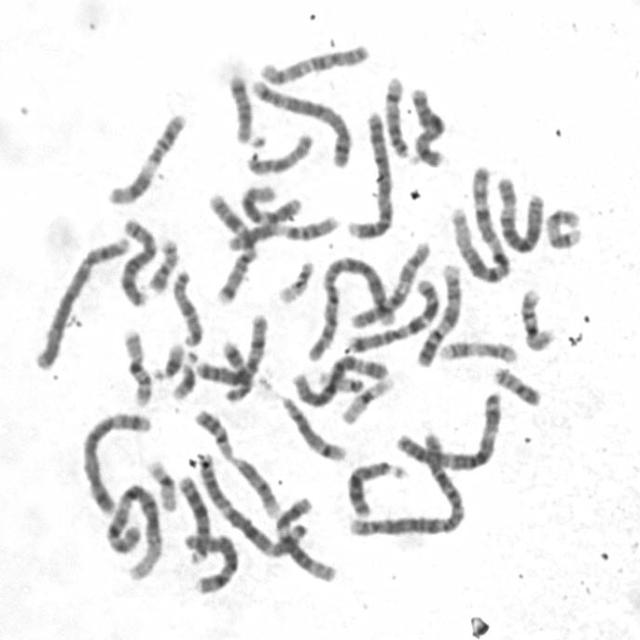A1: (446, 163, 515, 287), (102, 477, 164, 583)
A2: (342, 426, 468, 541), (304, 252, 398, 363)
A3: (195, 448, 310, 560), (391, 386, 506, 473)
B4: (30, 230, 132, 372), (344, 106, 396, 241)
B5: (246, 74, 354, 168), (76, 406, 155, 516)
C10: (348, 237, 433, 331), (256, 38, 372, 86)
C11: (102, 107, 189, 207), (221, 210, 341, 251)
C12: (270, 491, 340, 584), (236, 180, 304, 227)
C6: (289, 352, 390, 408), (492, 172, 546, 255)
C7: (342, 274, 443, 356), (203, 188, 260, 306)
C8: (181, 527, 242, 595), (118, 214, 158, 308)
C9: (189, 404, 283, 520), (412, 258, 464, 369)
D13: (342, 454, 410, 520), (174, 470, 213, 566)
D14: (277, 392, 349, 463), (380, 72, 412, 160)
D15: (242, 128, 315, 176), (168, 265, 206, 348)
E16: (118, 323, 155, 407), (516, 284, 557, 352)
E17: (434, 335, 520, 365), (541, 203, 585, 251)
E18: (217, 336, 255, 402), (224, 69, 255, 144)
F19: (336, 371, 396, 426), (142, 454, 179, 514)
F20: (489, 362, 543, 408), (144, 234, 181, 294)
G21: (149, 338, 187, 382), (168, 356, 198, 402)
G22: (274, 255, 317, 305), (313, 367, 365, 394)
X: (406, 82, 450, 169)
